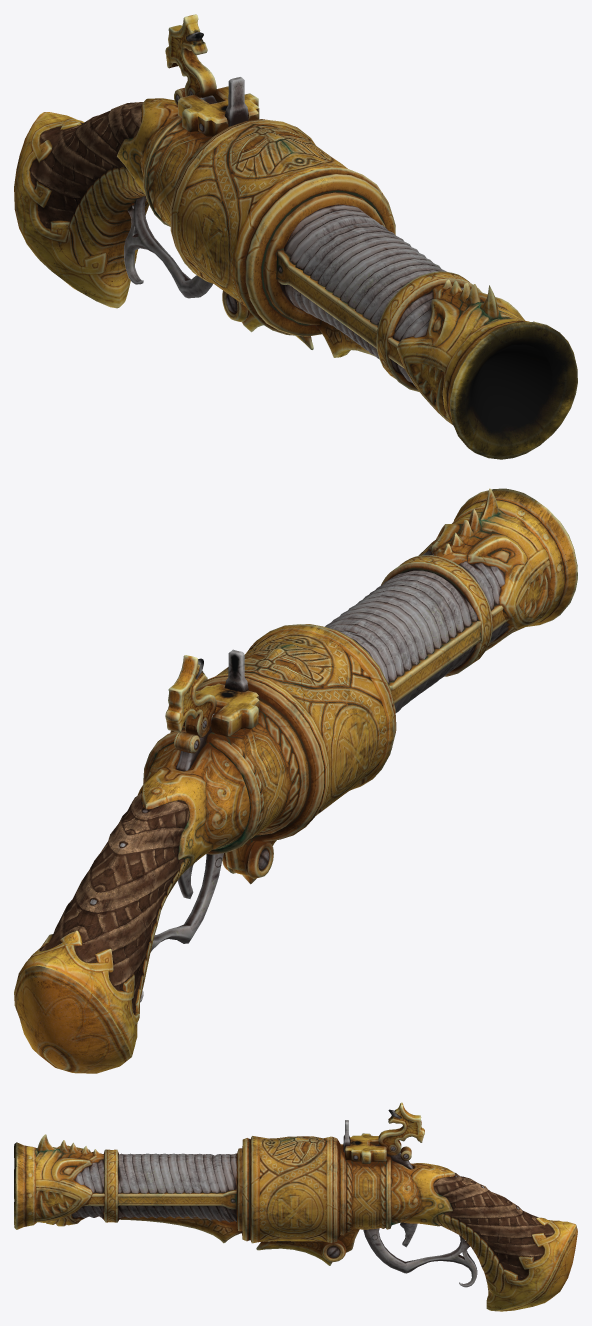
The model's file is pistol.obj.
The picture shows the model from 3 angles, top to bottom: view 1: azimuth 30°, elevation 25°; view 2: azimuth 150°, elevation 25°; view 3: azimuth 270°, elevation 25°; orthographic projection. The views are drawn at different scales.
Visible parts, largest first — view 1: Plane, Plane.002_Plane.010, Plane.001_Plane.009; view 2: Plane, Plane.002_Plane.010, Plane.001_Plane.009; view 3: Plane, Plane.001_Plane.009, Plane.002_Plane.010.
Boxes of the visible parts, bbox=[...] form: Plane: bbox=[14, 77, 533, 425]; Plane.002_Plane.010: bbox=[30, 248, 577, 459]; Plane.001_Plane.009: bbox=[165, 14, 250, 322]; Plane: bbox=[16, 488, 577, 1056]; Plane.002_Plane.010: bbox=[14, 523, 577, 1073]; Plane.001_Plane.009: bbox=[165, 655, 273, 878]; Plane: bbox=[16, 1120, 576, 1310]; Plane.001_Plane.009: bbox=[321, 1102, 424, 1261]; Plane.002_Plane.010: bbox=[14, 1142, 577, 1311].
Size of the model in its own units: 0.6121 by 1.3 by 3.21.
1 material, 1 textured.
